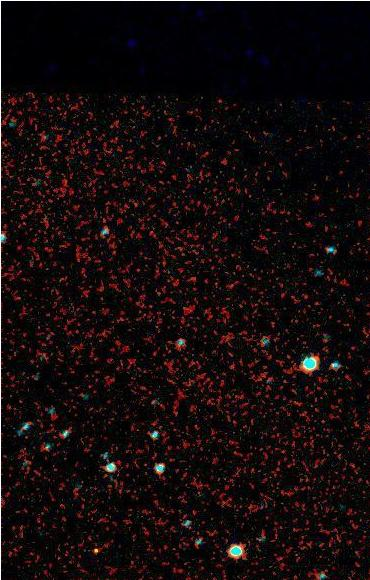star: (90, 539, 120, 569)
